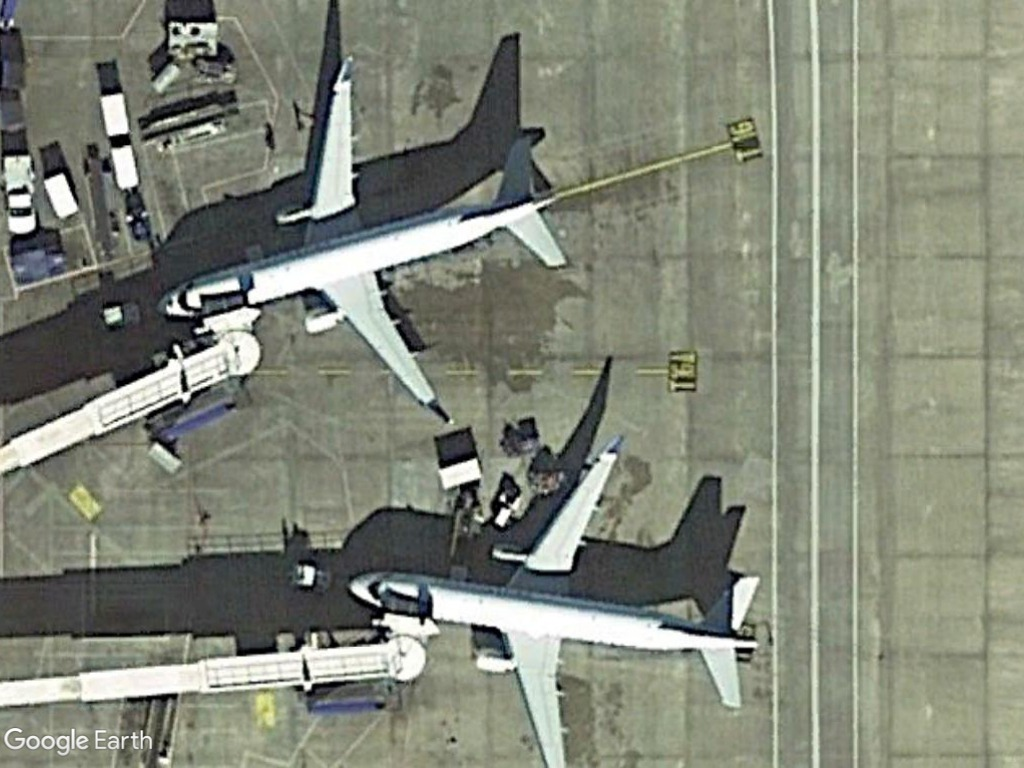airliner: (144, 46, 577, 419), (343, 430, 768, 768)
